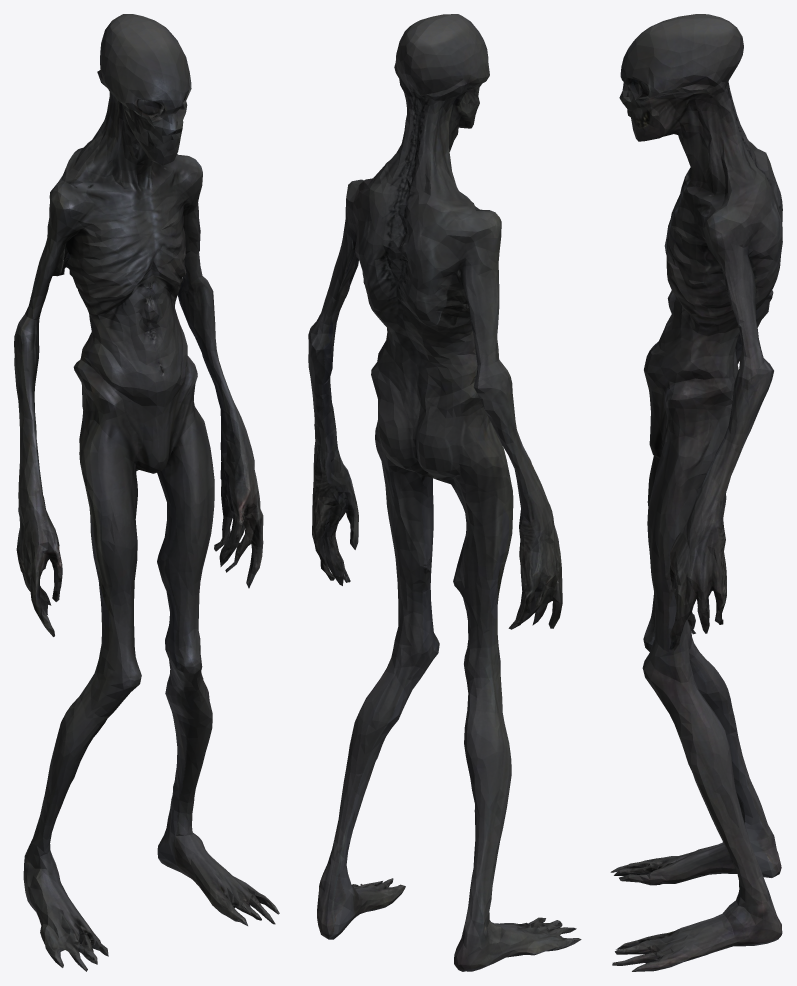
File: Stalker.fbx
The picture shows the model from 3 angles, left to right: view 1: azimuth 30°, elevation 25°; view 2: azimuth 150°, elevation 25°; view 3: azimuth 270°, elevation 25°; orthographic projection. The views are drawn at different scales.
Visible parts, largest first — view 1: temp; view 2: temp; view 3: temp.
Boxes of the visible parts, bbox=[...] form: temp: bbox=[14, 14, 279, 971]; temp: bbox=[308, 14, 581, 971]; temp: bbox=[610, 14, 782, 971].
Size of the model in its own units: 54.39 by 200 by 34.71.
1 material, 1 textured.
